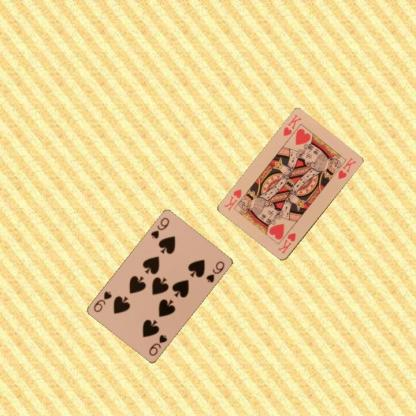9s: (146, 332, 169, 357), (148, 215, 170, 240)
Kh: (281, 112, 303, 138), (275, 230, 297, 255)
